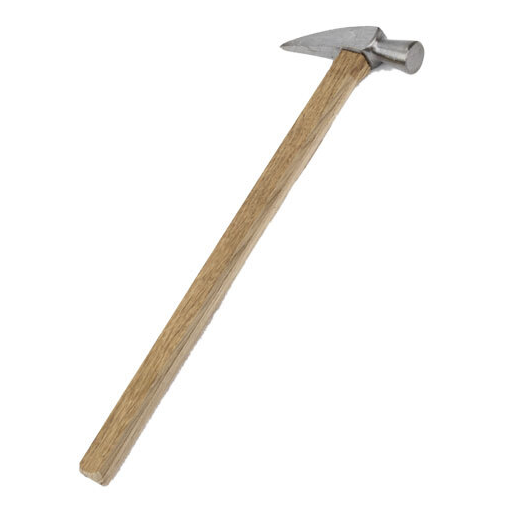hammer: (64, 19, 441, 491)
